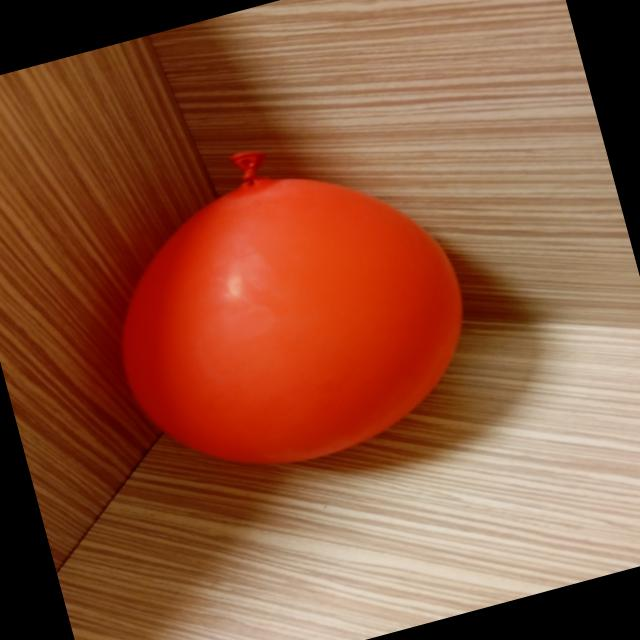balloon: (122, 151, 462, 463)
